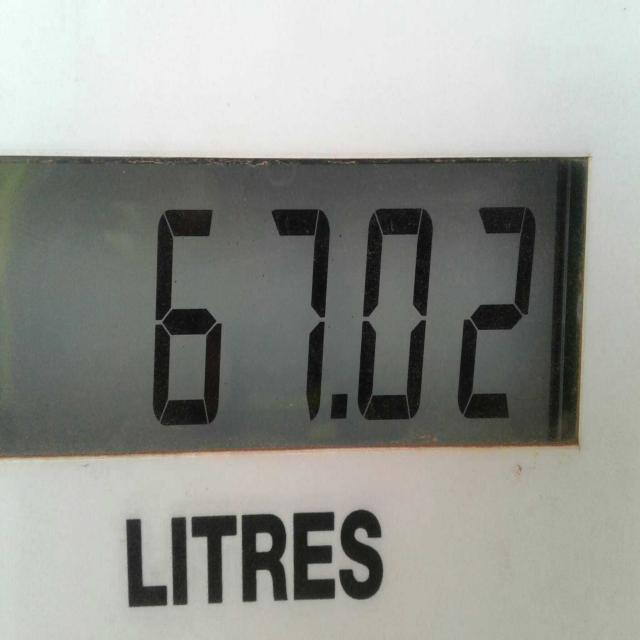.: (320, 391, 360, 471)
0: (354, 207, 443, 430)
2: (448, 204, 534, 426)
6: (142, 204, 230, 429)
7: (264, 205, 327, 422)
